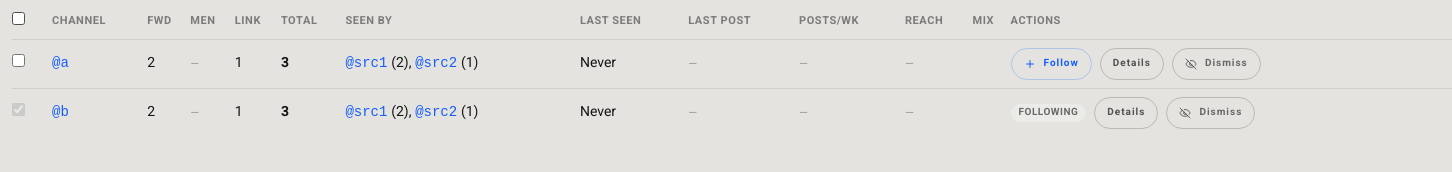
Scenario: DiscoverCandidateTable › select-all toggles every unfollowed row
What coordinates should you click on to do the following:
click the checkbox with test id "discover-select-all"
I would click on:
 (18, 18)
Its box is [12,12,25,25].
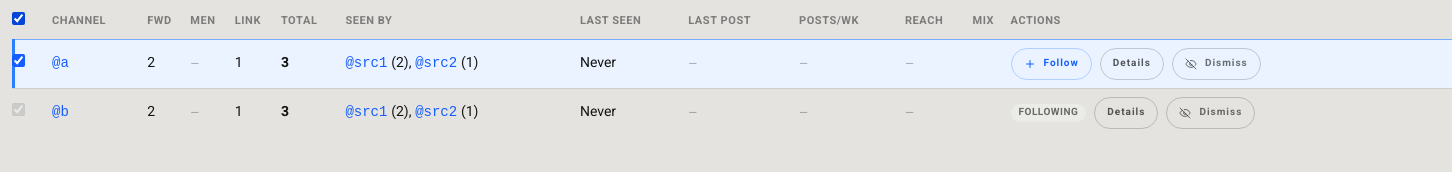
Now the checkbox with test id "discover-select-all" is checked, box [12,12,25,25]
Now the checkbox with test id "discover-select-a" is checked, box [12,54,25,67]
